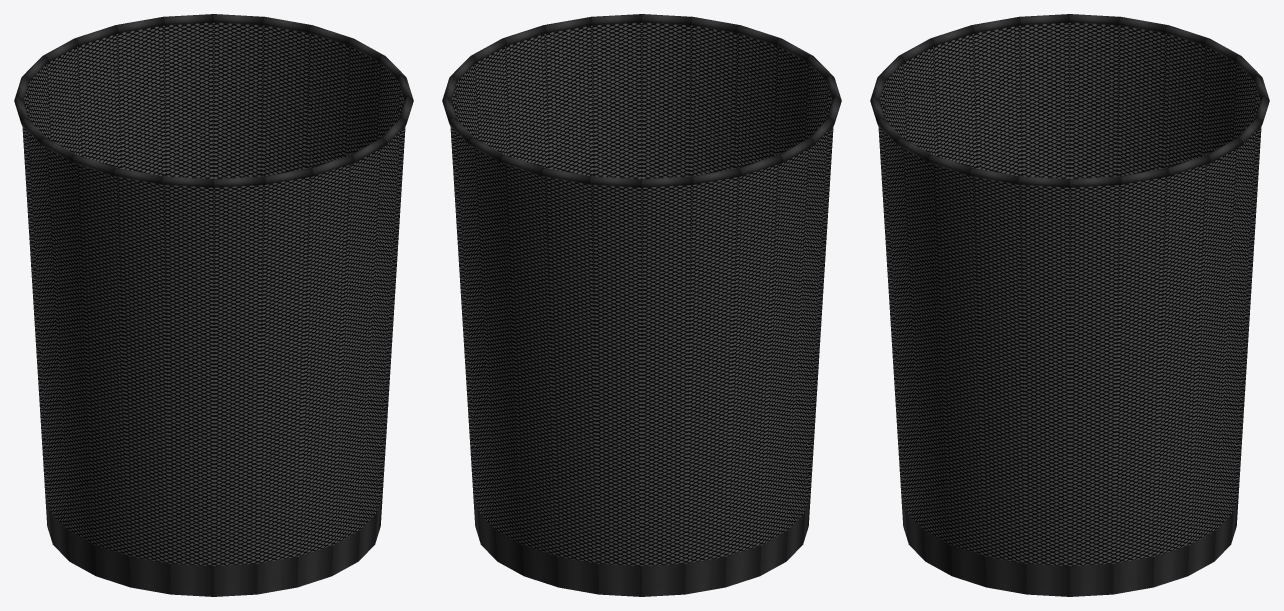
File: Black+Mesh+Waste+Pail.fbx
3 views of the same model, side by side, from view 1: azimuth 30°, elevation 25°; view 2: azimuth 150°, elevation 25°; view 3: azimuth 270°, elevation 25° (orthographic).
Parts seen in each view (by area): view 1: Silver_Waste_Pail1; view 2: Silver_Waste_Pail1; view 3: Silver_Waste_Pail1.
Part boxes in pixels (box(x1,y1,x2,y2)): Silver_Waste_Pail1: box(14, 14, 413, 596); Silver_Waste_Pail1: box(442, 14, 841, 596); Silver_Waste_Pail1: box(870, 14, 1269, 596).
Bounding box in the file's own units: 11.38 × 13.5 × 11.38.
